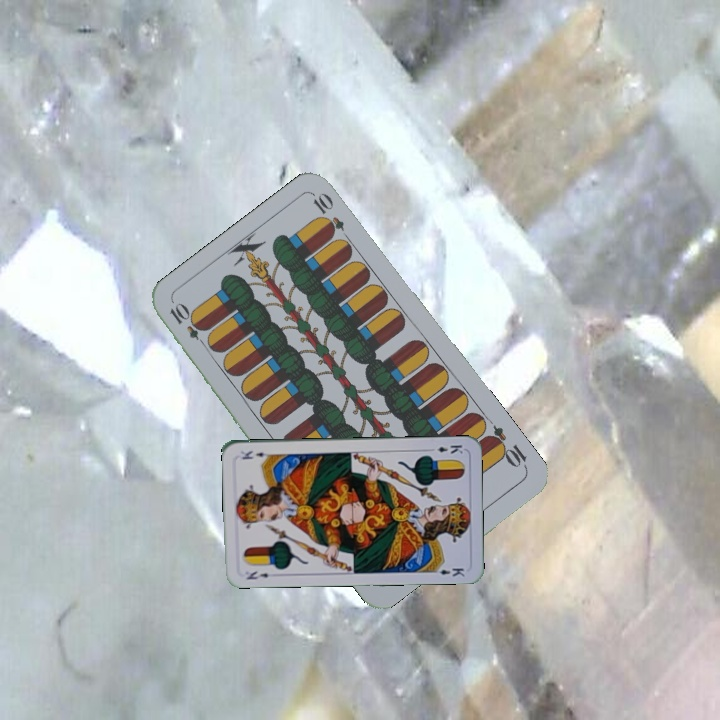E10: (482, 421, 530, 472), (165, 299, 212, 351)
EK: (425, 441, 465, 456), (243, 567, 271, 582)
